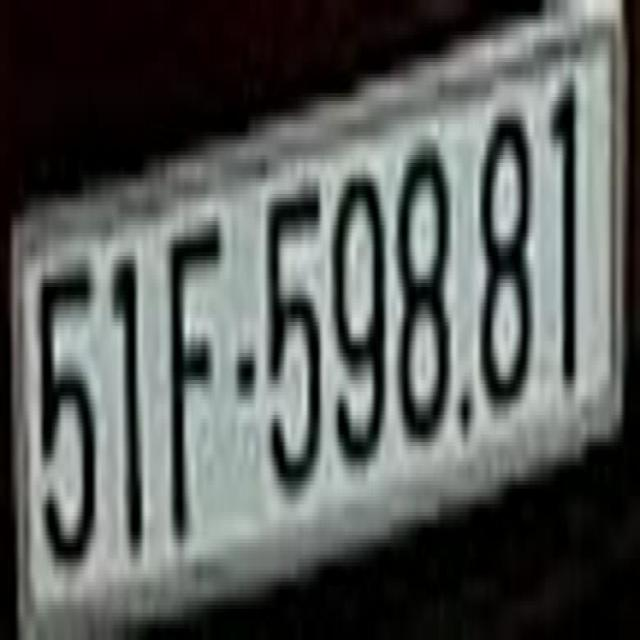1: (548, 66, 583, 415), (112, 237, 146, 578)
5: (38, 244, 98, 586), (265, 186, 325, 516)
8: (477, 108, 532, 426), (394, 140, 449, 446)
9: (332, 167, 386, 469)
F: (166, 209, 225, 543)
